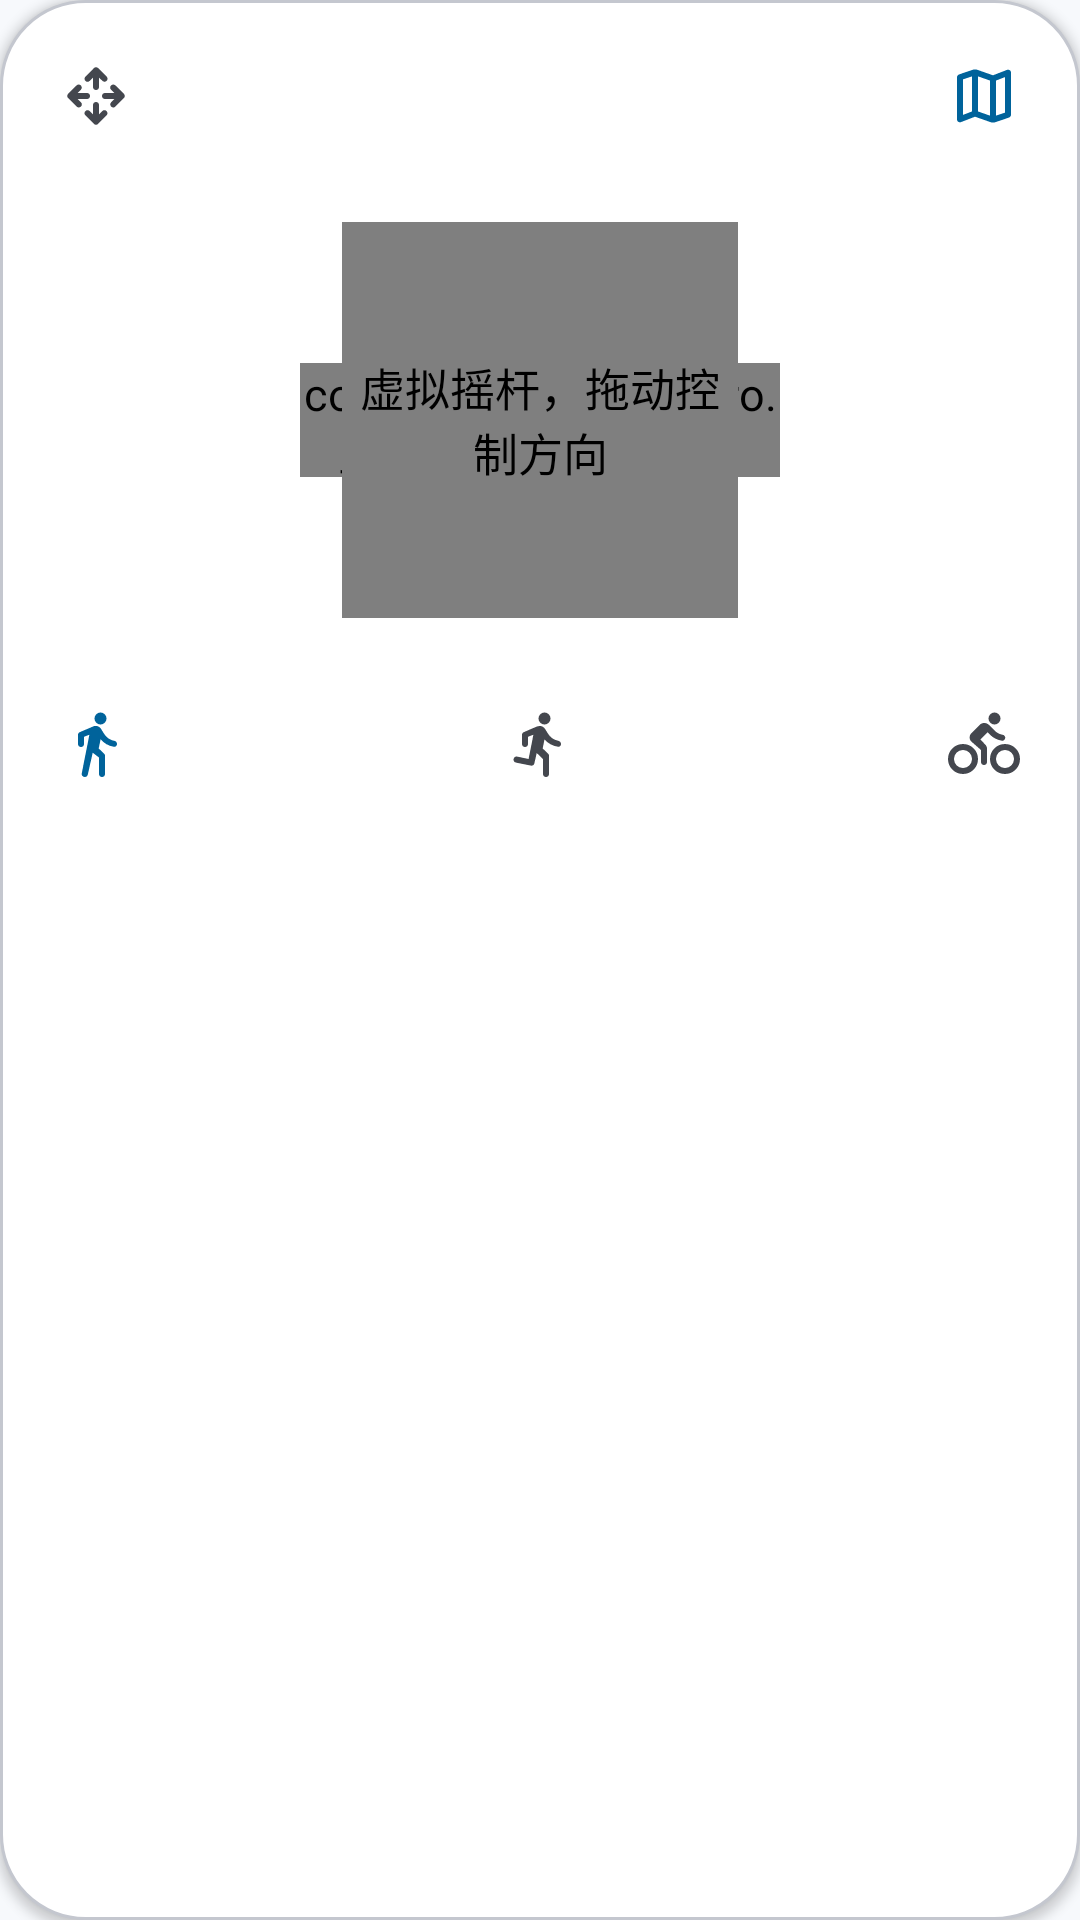

Named icons in this screenshot (1080w x 1920h) and their bounding boxes, (x1, y1, x2, y2):
地图: (957, 69, 1011, 123)
步行: (78, 712, 117, 777)
移动: (67, 67, 125, 125)
自行车: (948, 712, 1020, 774)
跑步: (513, 712, 561, 777)
